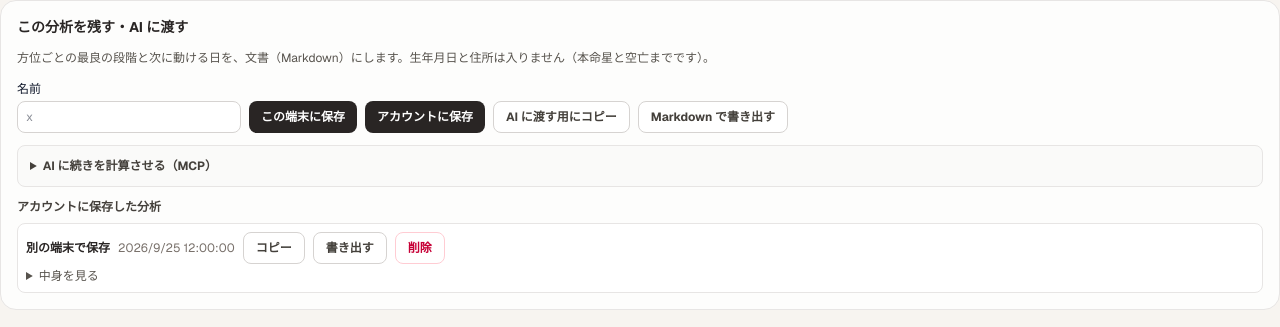
Test: アカウントに保存（ログイン中だけ） › アカウントの分析を消すと id を付けて DELETE し、一覧から外す
Check: the text "別の端末で保存" is shown, box [26,240,110,256]
Click the button "削除" at [420, 248], box [395,232,445,264]
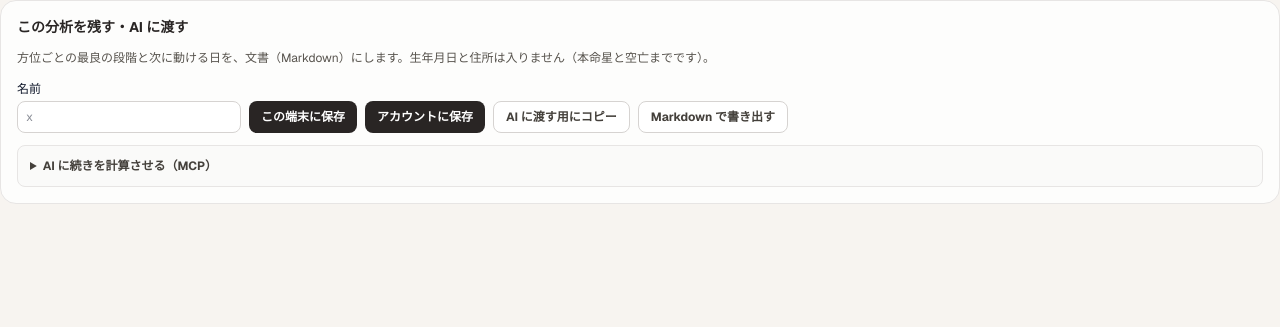
Check: the text "別の端末で保存" is gone
